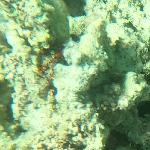dead: (3, 2, 149, 146)
